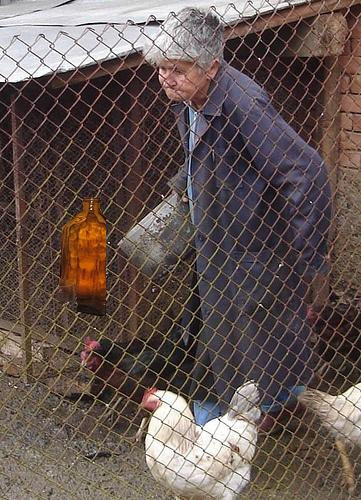tampered: (59, 198, 106, 316)
